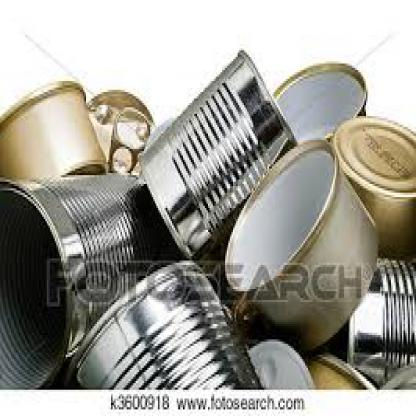METAL: (0, 177, 179, 388), (136, 49, 300, 258), (222, 138, 379, 352), (61, 258, 263, 388), (336, 116, 414, 256), (0, 79, 105, 173), (344, 257, 414, 386), (269, 62, 366, 145), (86, 87, 155, 178), (306, 346, 377, 387)
